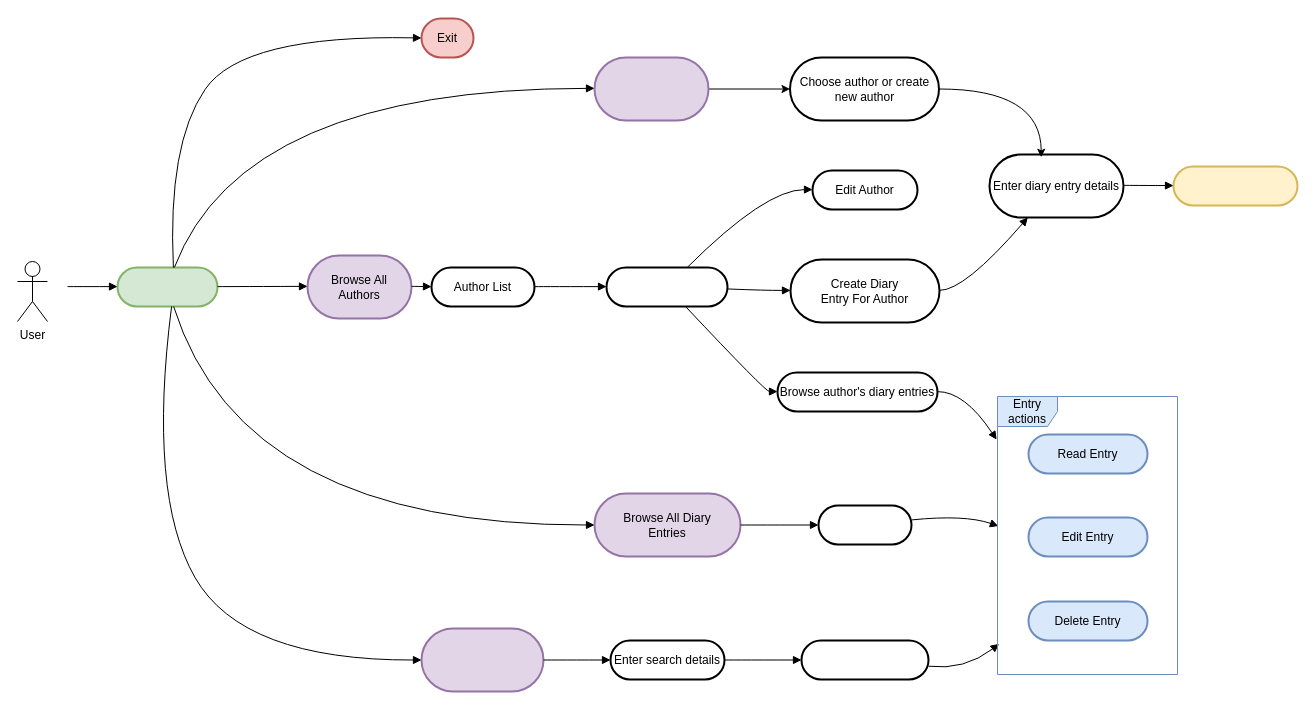
Image size: 1316x709. Some labels were removed from this diagram. The box of each missing label's shape, as (x1, y1, x2, y2) in pixels:
Create New Diary Entry: (593, 56, 709, 121)
Entry Created: (1172, 165, 1298, 206)
Entry List: (817, 504, 912, 545)
Find Specific Diary Entry: (420, 627, 544, 692)
Main Menu: (116, 266, 218, 307)
Search Results: (800, 639, 929, 680)
Select Author: (605, 266, 728, 307)
